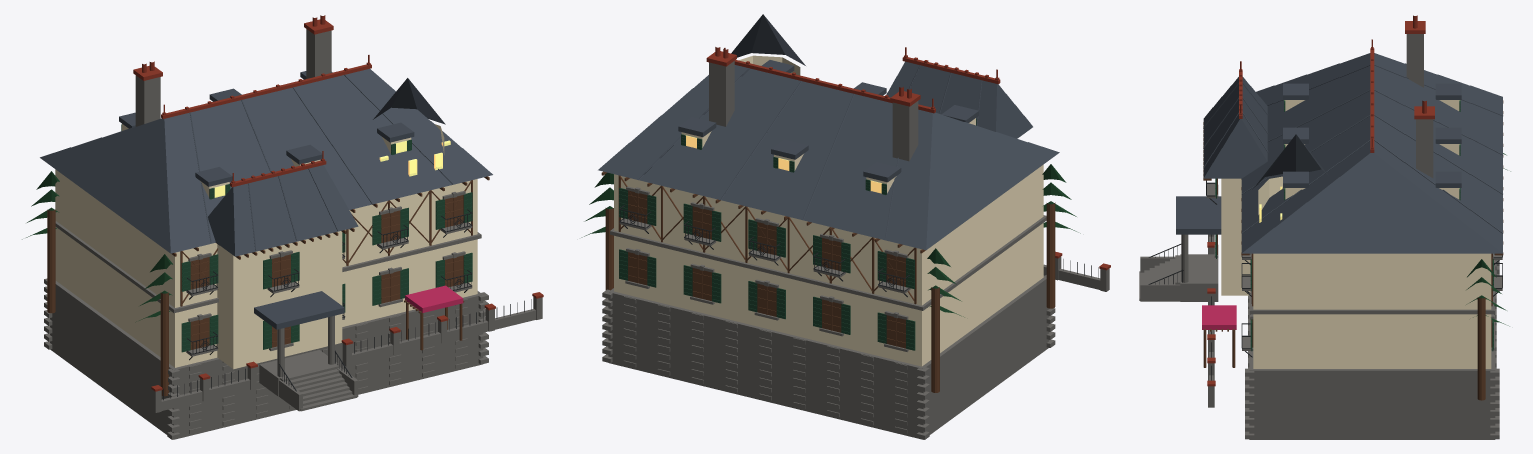
Rendered from fv_qt_10_quang_trung_yersin_junction_mansard_15.glb.
3 renders of one model, left to right at view 1: azimuth 30°, elevation 25°; view 2: azimuth 150°, elevation 25°; view 3: azimuth 270°, elevation 25°, orthographic. The views are drawn at different scales.
Visible parts, largest first — view 1: marseille_corrugated_roof_tiles, granite_foundation_and_stairs, stucco_facade_and_dormers, colombage_timber_and_eaves, pine_green_louvered_shutters, ridge_cresting_and_chimneys, wrought_iron_balconies_3d, pine_trees_and_garden_hedges, bougainvillea_pergola_clusters, warm_night_windows_ffb86c; view 2: marseille_corrugated_roof_tiles, granite_foundation_and_stairs, stucco_facade_and_dormers, colombage_timber_and_eaves, pine_green_louvered_shutters, ridge_cresting_and_chimneys, pine_trees_and_garden_hedges, wrought_iron_balconies_3d; view 3: marseille_corrugated_roof_tiles, stucco_facade_and_dormers, granite_foundation_and_stairs, colombage_timber_and_eaves, ridge_cresting_and_chimneys, bougainvillea_pergola_clusters, wrought_iron_balconies_3d, pine_green_louvered_shutters.
Part boxes in pixels (x1,y1,x2,y2): marseille_corrugated_roof_tiles: (40, 68, 492, 329); granite_foundation_and_stairs: (44, 29, 542, 439); stucco_facade_and_dormers: (55, 101, 477, 369); colombage_timber_and_eaves: (47, 176, 489, 396); pine_green_louvered_shutters: (121, 124, 472, 352); ridge_cresting_and_chimneys: (133, 15, 543, 391); wrought_iron_balconies_3d: (163, 209, 531, 400); pine_trees_and_garden_hedges: (22, 171, 172, 322); bougainvillea_pergola_clusters: (405, 285, 463, 312); warm_night_windows_ffb86c: (214, 140, 450, 197); marseille_corrugated_roof_tiles: (598, 14, 1059, 250); granite_foundation_and_stairs: (602, 61, 1109, 439); stucco_facade_and_dormers: (614, 55, 1043, 366); colombage_timber_and_eaves: (601, 171, 1055, 392); pine_green_louvered_shutters: (619, 118, 976, 350); ridge_cresting_and_chimneys: (706, 47, 1110, 270); pine_trees_and_garden_hedges: (581, 164, 1080, 317); wrought_iron_balconies_3d: (619, 205, 1098, 297); marseille_corrugated_roof_tiles: (1176, 53, 1503, 253); stucco_facade_and_dormers: (1221, 100, 1491, 368); granite_foundation_and_stairs: (1139, 34, 1502, 439); colombage_timber_and_eaves: (1203, 100, 1503, 400); ridge_cresting_and_chimneys: (1207, 15, 1434, 386); bougainvillea_pergola_clusters: (1202, 305, 1236, 329); wrought_iron_balconies_3d: (1148, 180, 1502, 380); pine_green_louvered_shutters: (1215, 100, 1493, 351).
Bounding box in the file's own units: 27.72 × 20.63 × 23.59.
